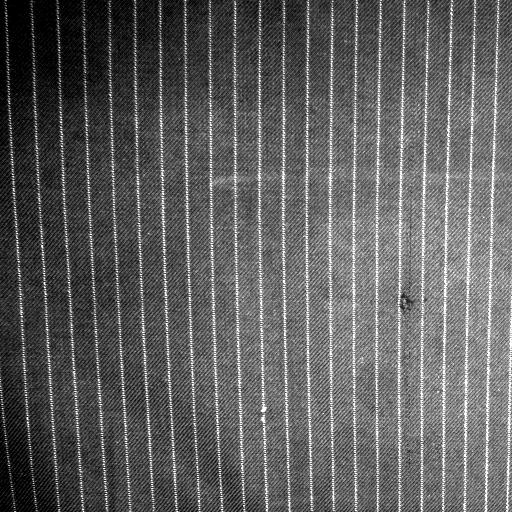fabric_hole: (392, 282, 430, 324)
